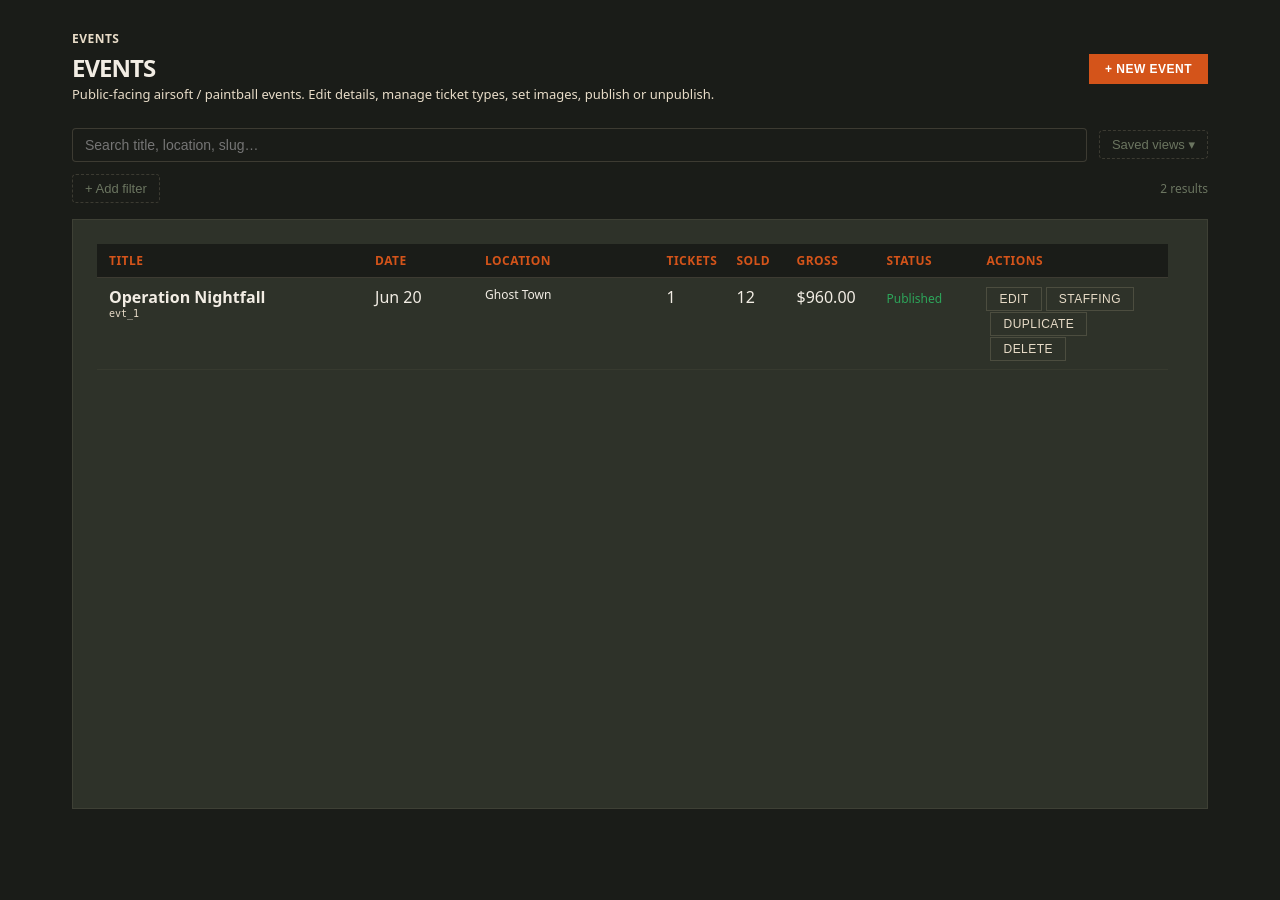
Test: AdminEvents › offers a Venue picker populated from /api/admin/sites, hydrated from the event
The width and height of the screenshot is (1280, 900).
Click the button "Edit" at {"x": 1014, "y": 299}, box [986,287,1042,311]
(page scrolled)
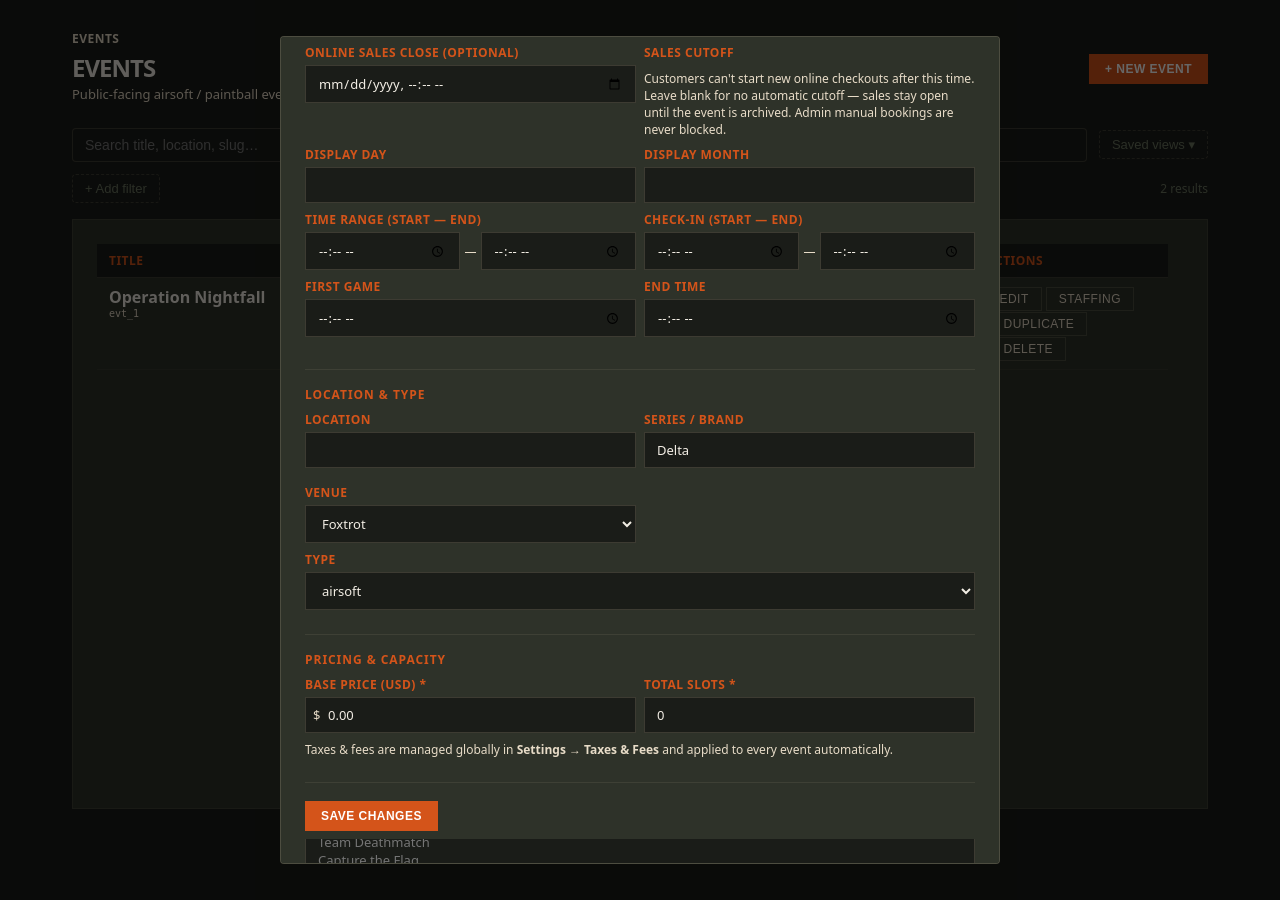
expect the dropdown labelled "Venue" shows "Foxtrot": met, box [305,505,636,543]
expect the field labelled "Series / brand" holds "Delta": met, box [644,432,975,468]
